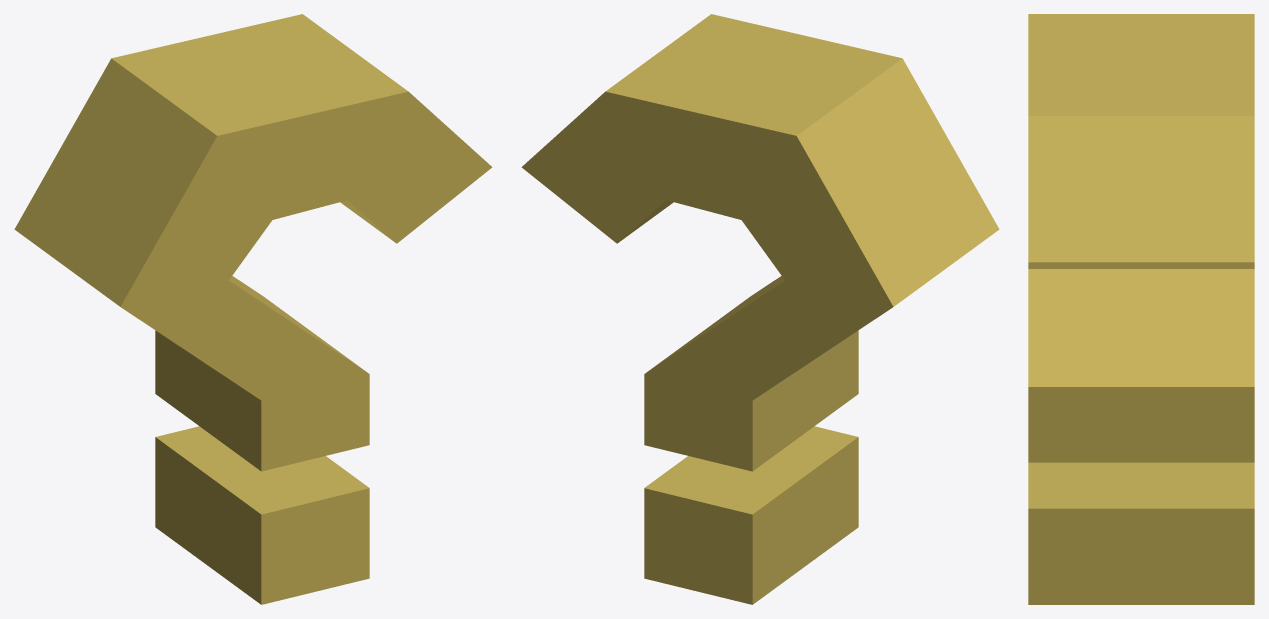
File: Question.fbx
3 renders of one model, left to right at view 1: azimuth 30°, elevation 25°; view 2: azimuth 150°, elevation 25°; view 3: azimuth 270°, elevation 25°, orthographic. The views are drawn at different scales.
Parts seen in each view (by area): view 1: Question; view 2: Question; view 3: Question.
Part boxes in pixels (bbox=[...]): Question: bbox=[14, 14, 492, 604]; Question: bbox=[521, 14, 999, 604]; Question: bbox=[1028, 14, 1254, 604].
Bounding box in the file's own units: 32.16 × 39.62 × 15.87.
